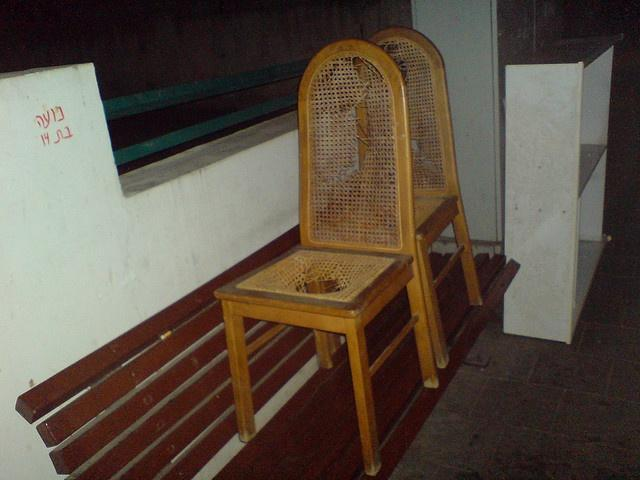Kursi: (212, 37, 439, 479), (365, 25, 483, 368)
